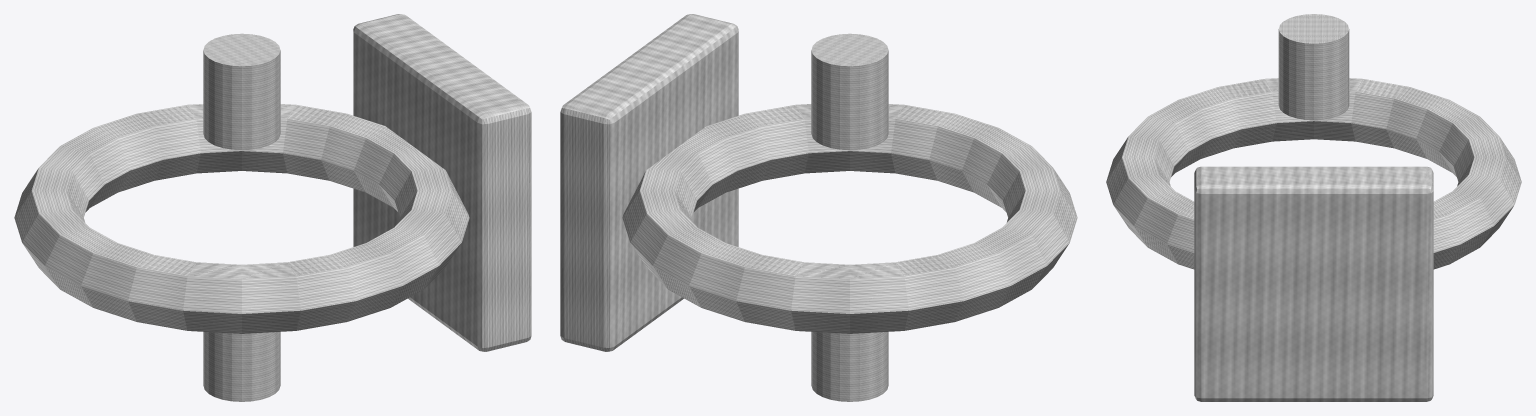
Rendered from item-screws_variant_b.glb.
3 views of the same model, side by side, from view 1: azimuth 30°, elevation 25°; view 2: azimuth 150°, elevation 25°; view 3: azimuth 270°, elevation 25° (orthographic). The views are drawn at different scales.
Parts seen in each view (by area): view 1: Coiled conductor.002, Variant reinforcement, Coil end.004, Coil end.003; view 2: Coiled conductor.002, Variant reinforcement, Coil end.004, Coil end.003; view 3: Variant reinforcement, Coiled conductor.002, Coil end.004.
Part boxes in pixels (x1,y1,x2,y2): Coiled conductor.002: [14, 104, 469, 333]; Variant reinforcement: [353, 14, 531, 351]; Coil end.004: [203, 33, 280, 150]; Coil end.003: [203, 332, 280, 401]; Coiled conductor.002: [622, 104, 1077, 333]; Variant reinforcement: [560, 14, 738, 351]; Coil end.004: [811, 33, 888, 150]; Coil end.003: [811, 332, 888, 401]; Variant reinforcement: [1194, 166, 1433, 401]; Coiled conductor.002: [1106, 78, 1521, 269]; Coil end.004: [1278, 14, 1349, 120].
Size of what is drawn, in the model's own units: 0.635 by 0.48 by 0.59.
Materials: 2 (2 with a texture image).
